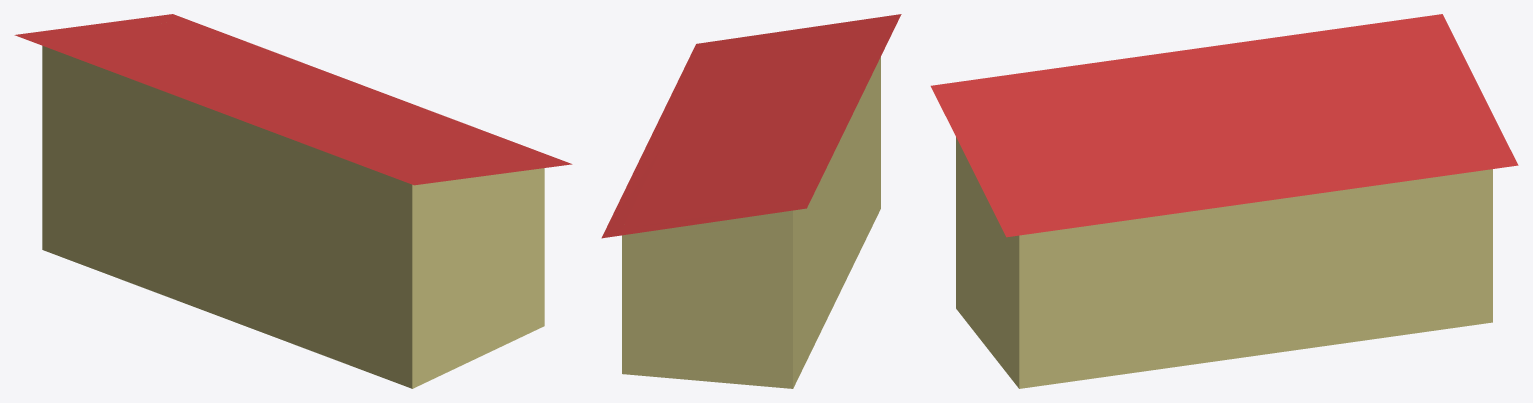
3 views of the same model, side by side, from view 1: azimuth 30°, elevation 25°; view 2: azimuth 150°, elevation 25°; view 3: azimuth 270°, elevation 25° (orthographic). The views are drawn at different scales.
Size of the model in its own units: 14.78 by 21.81 by 8.89.
